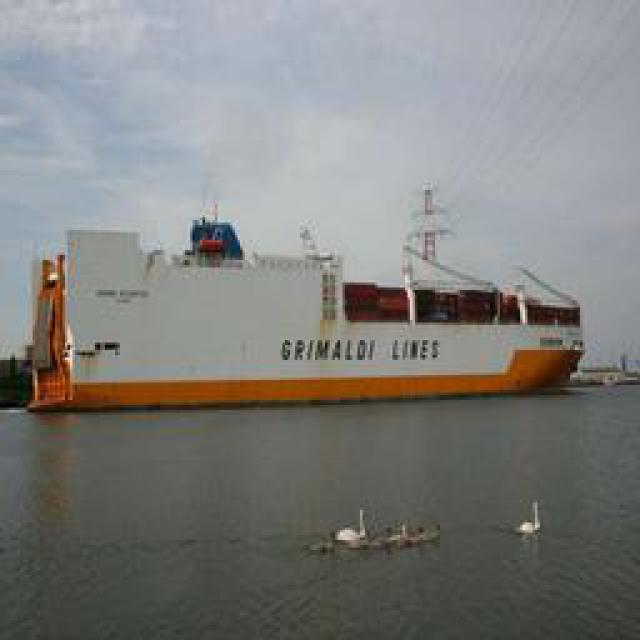Ship: (36, 199, 586, 404)
